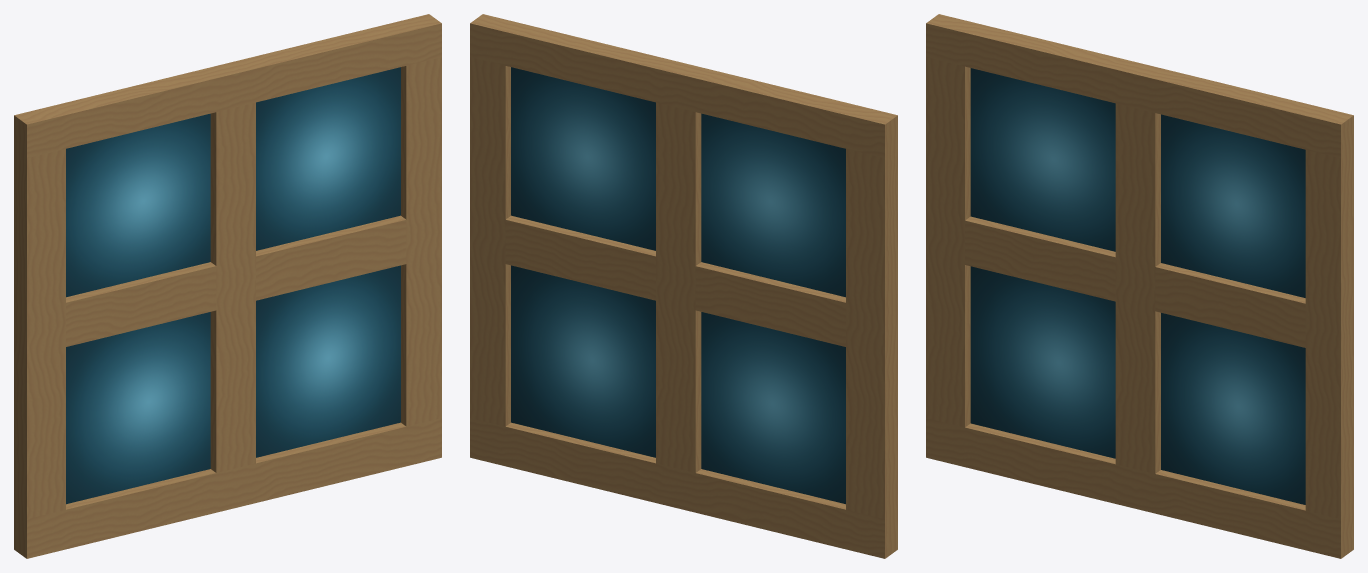
The model's file is Window_Small_A.FBX.
3 views of the same model, side by side, from view 1: azimuth 30°, elevation 25°; view 2: azimuth 150°, elevation 25°; view 3: azimuth 330°, elevation 25° (orthographic).
Parts seen in each view (by area): view 1: Window_Square; view 2: Window_Square; view 3: Window_Square.
Part boxes in pixels (x1,y1,x2,y2): Window_Square: [14, 14, 441, 558]; Window_Square: [470, 14, 897, 558]; Window_Square: [926, 14, 1353, 558].
Bounding box in the file's own units: 150 × 150 × 8.
